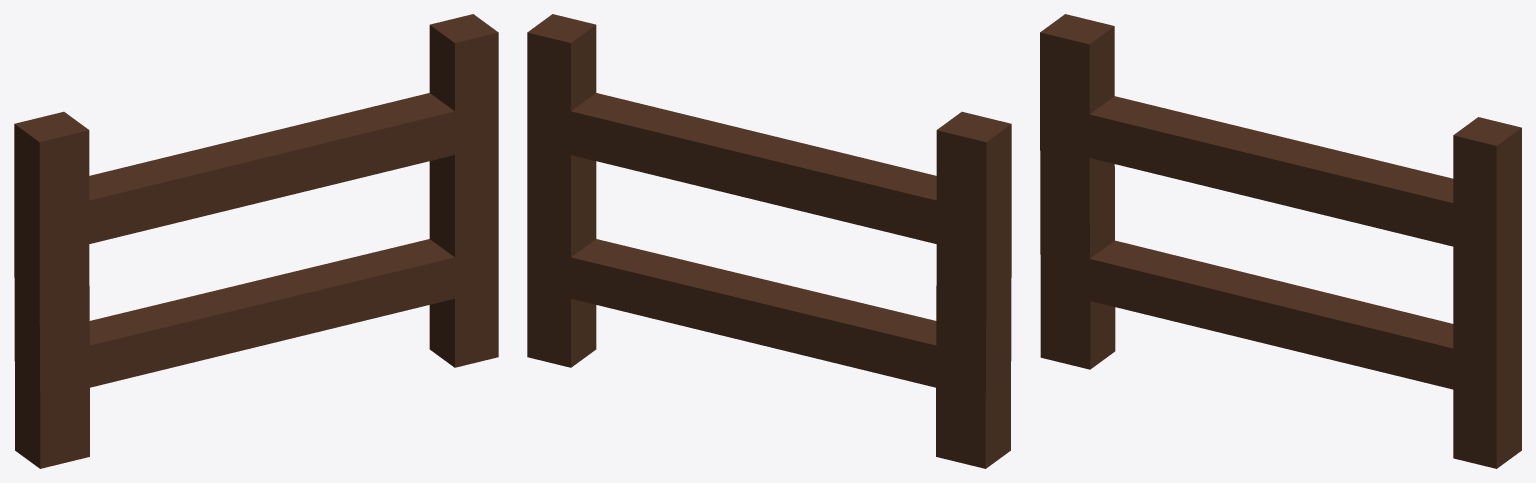
The model's file is fence01__mesh_LOD.fbx.
3 renders of one model, left to right at view 1: azimuth 30°, elevation 25°; view 2: azimuth 150°, elevation 25°; view 3: azimuth 330°, elevation 25°, orthographic.
Visible parts, largest first — view 1: fence01__mesh_LOD0; view 2: fence01__mesh_LOD0; view 3: fence01__mesh_LOD0.
Boxes of the visible parts, left/top/right/bottom form: fence01__mesh_LOD0: left=14, top=14, right=498, bottom=468; fence01__mesh_LOD0: left=527, top=14, right=1011, bottom=468; fence01__mesh_LOD0: left=1040, top=14, right=1521, bottom=468.
Size of what is drawn, in the model's own units: 2099 by 1429 by 200.
Materials: 1 (1 with a texture image).
